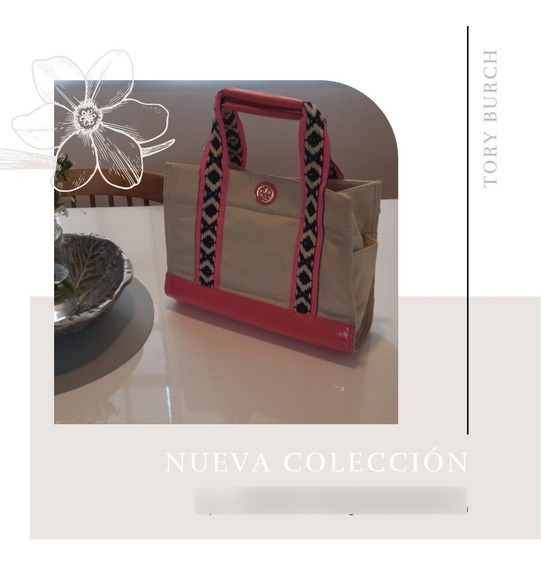cartera: (159, 88, 383, 357)
